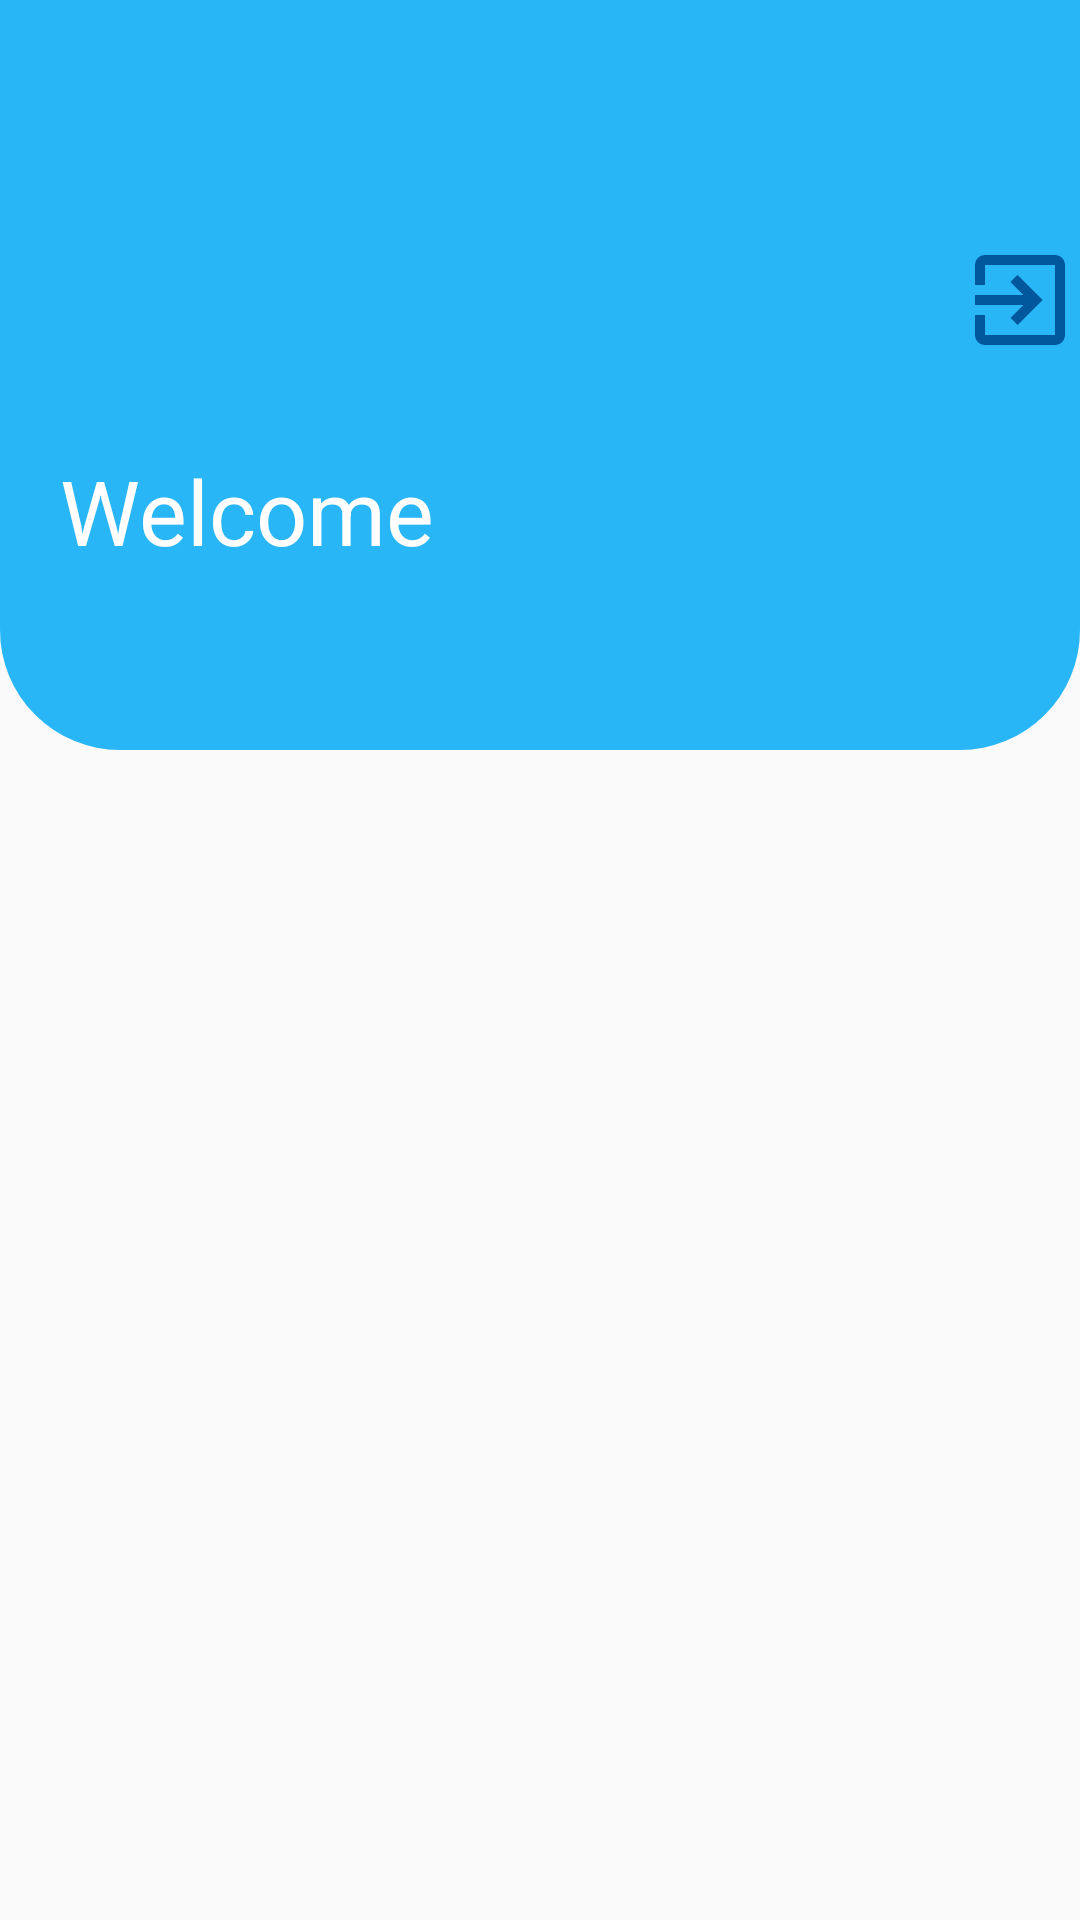

Named icons in this screenshot (1080px x 1920px) and their centers, (x=x, y=y):
exit to app: (x=1020, y=300)
